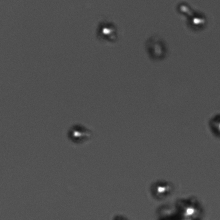Dead Cell: (144, 33, 170, 64)
Living Cell: (63, 120, 94, 145), (149, 171, 173, 202), (91, 20, 115, 44), (184, 198, 206, 219), (189, 13, 207, 31), (177, 3, 195, 17)
